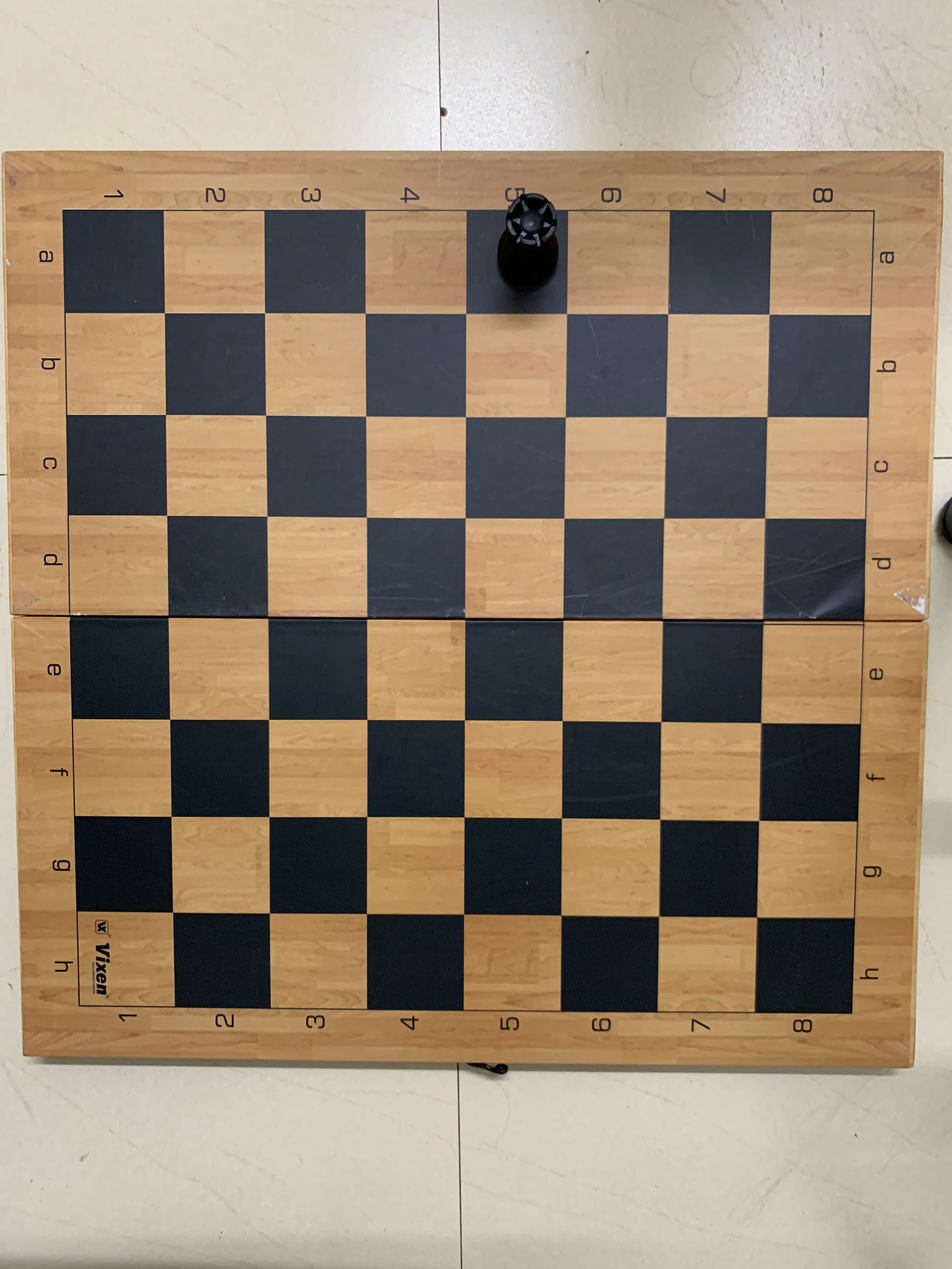black_rook: (471, 197, 571, 309)
